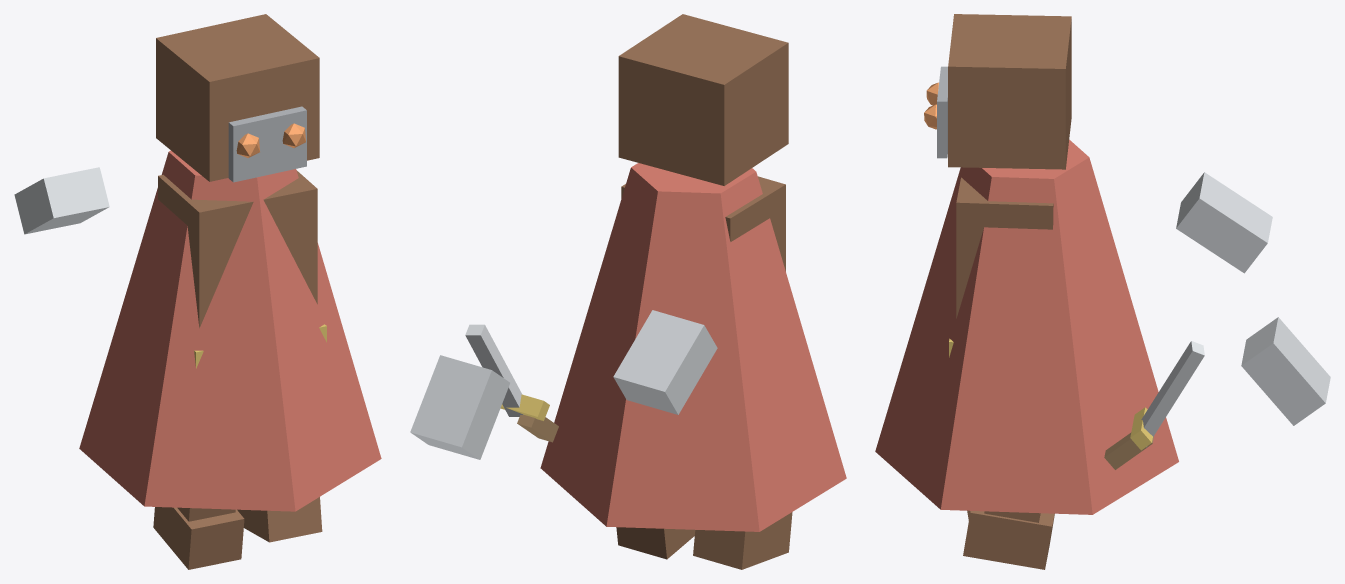
Rendered from npcpose_raider_attack_12.glb.
3 renders of one model, left to right at view 1: azimuth 30°, elevation 25°; view 2: azimuth 150°, elevation 25°; view 3: azimuth 270°, elevation 25°, orthographic.
Parts seen in each view (by area): view 1: npcpose; view 2: npcpose; view 3: npcpose.
Part boxes in pixels (x1,y1,x2,y2): npcpose: (14,14,381,569); npcpose: (410,14,846,569); npcpose: (875,14,1330,569).
Size of the model in its own units: 0.8629 by 1.58 by 1.31.
